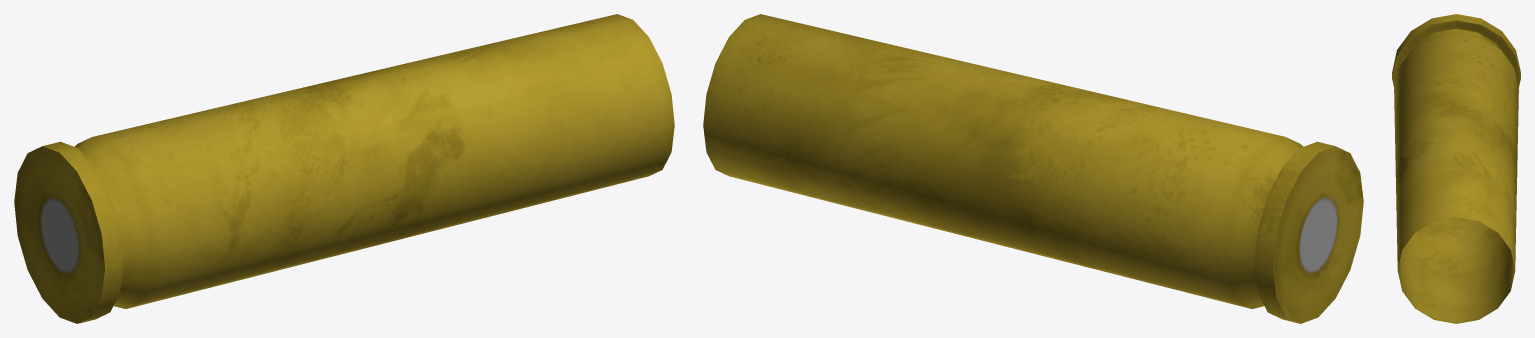
The model's file is vfe-pistol-long.fbx.
3 views of the same model, side by side, from view 1: azimuth 30°, elevation 25°; view 2: azimuth 150°, elevation 25°; view 3: azimuth 270°, elevation 25° (orthographic). The views are drawn at different scales.
Visible parts, largest first — view 1: 22; view 2: 22; view 3: 22.
Part boxes in pixels (box(x1,y1,x2,y2)): 22: box(14, 14, 674, 323); 22: box(703, 14, 1363, 323); 22: box(1392, 14, 1520, 323).
Size of the model in its own units: 0.0844 by 0.0232 by 0.0232.
1 material, 1 textured.
